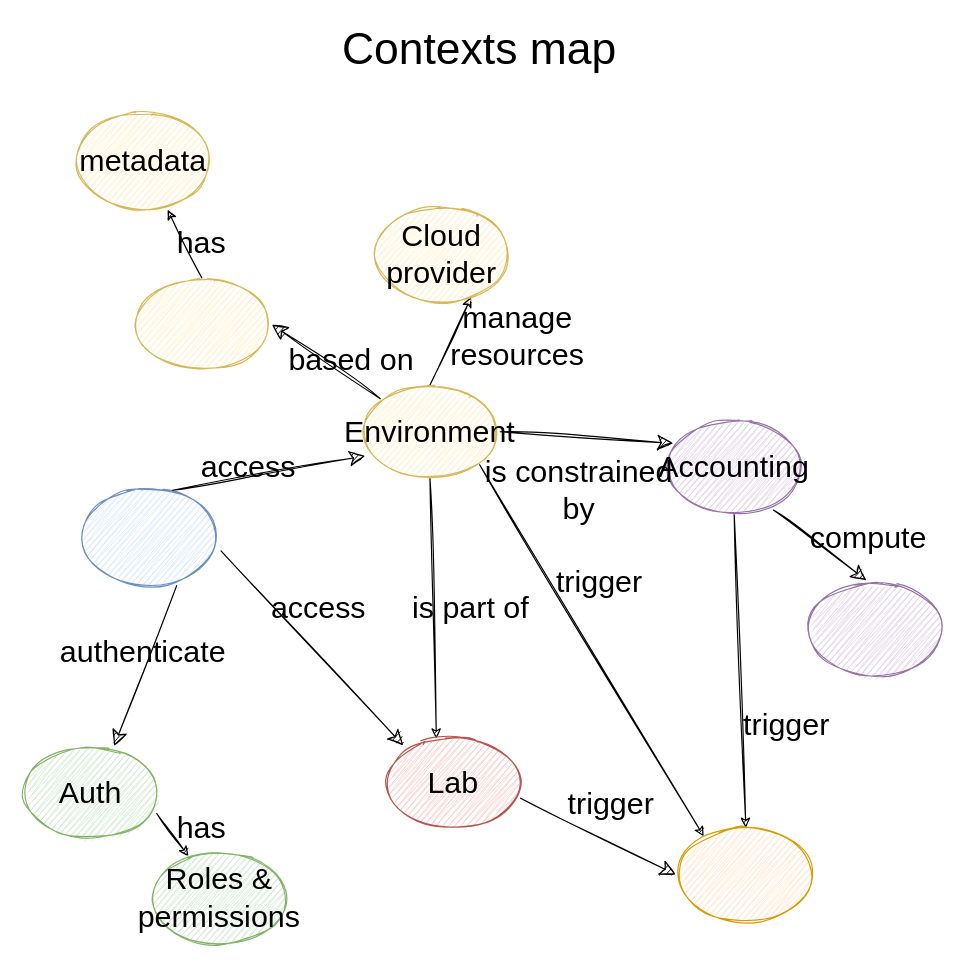
This 965x965 diagram has some shape labels left out. Here are the shapes that lost their labels. From the top down, the centre of each, then its label:
At point (201, 324): "Template".
At point (148, 536): "User".
At point (874, 628): "Logs and analytics".
At point (745, 874): "Notification".
